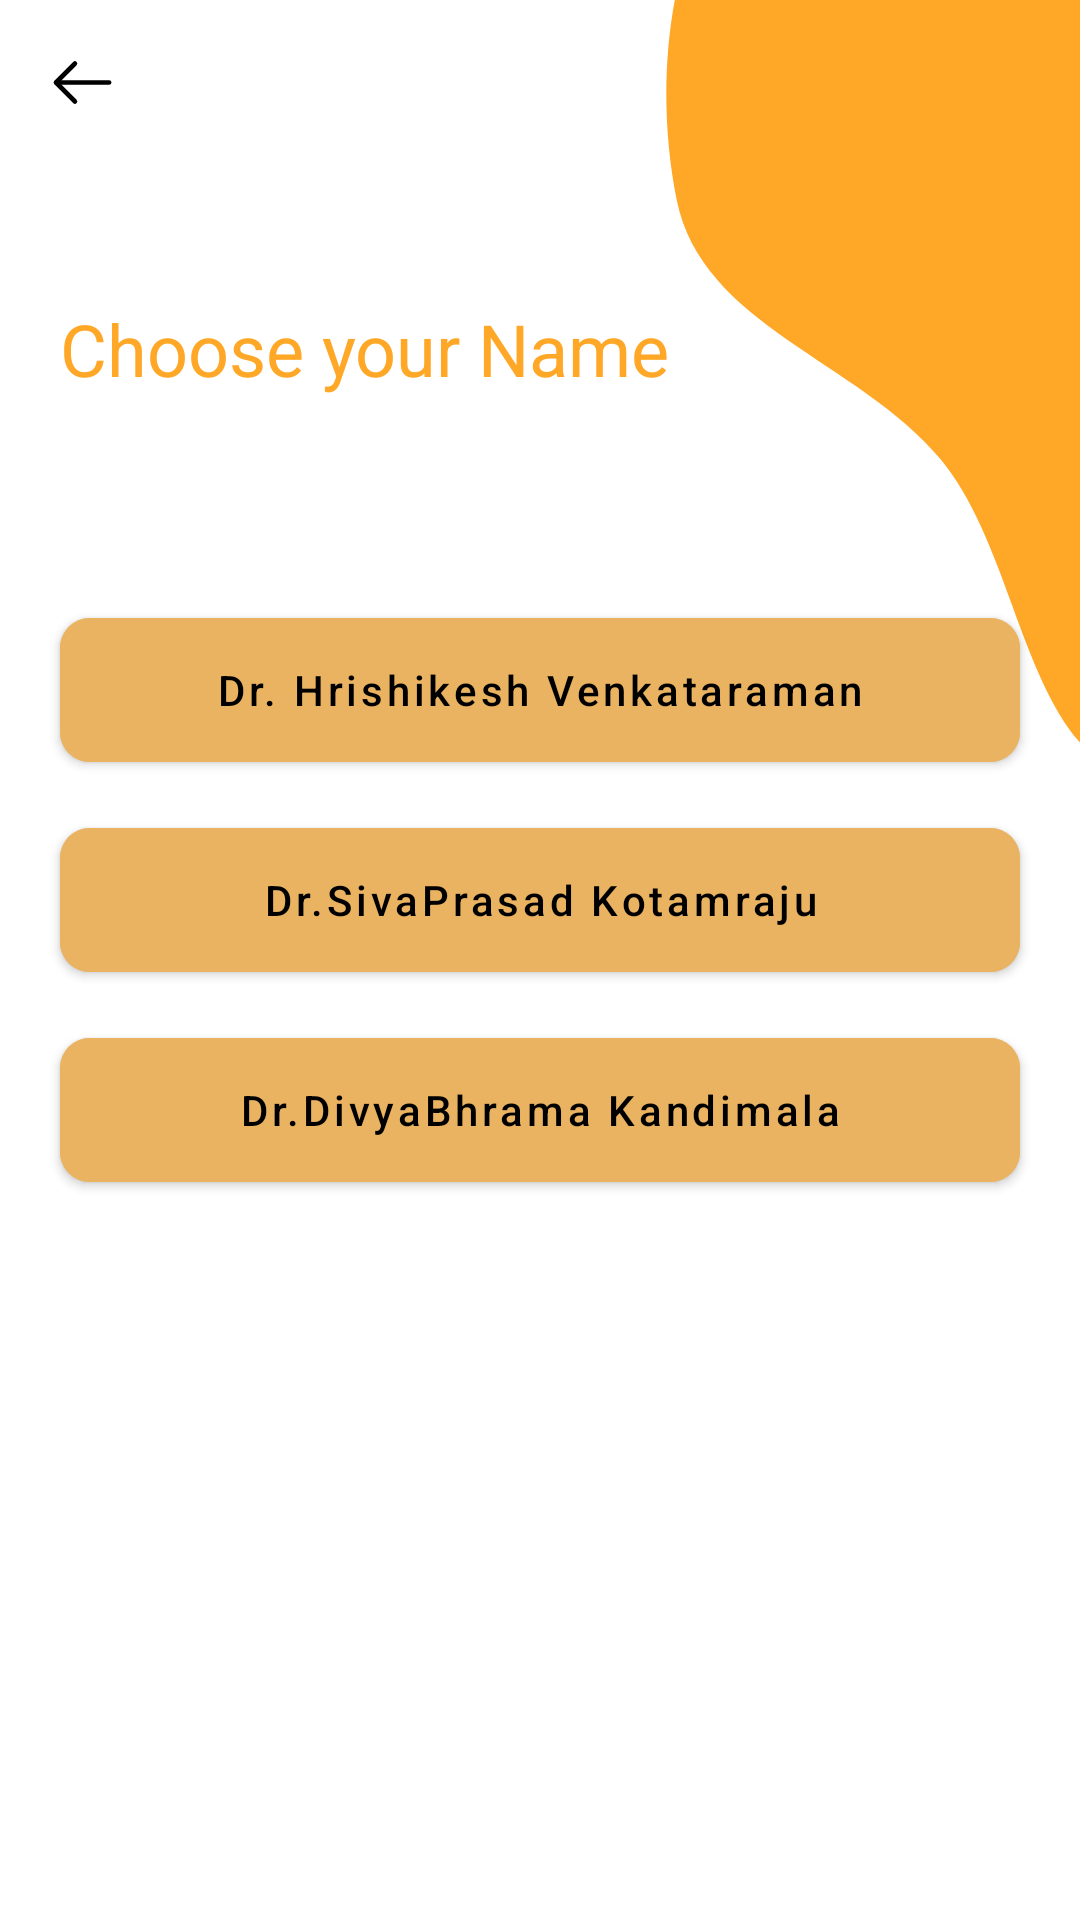

Screen size 1080*1920. Icon name, then its box in pixels as box(x1, y1, x2, y2):
arrow left: box(53, 61, 112, 104)
